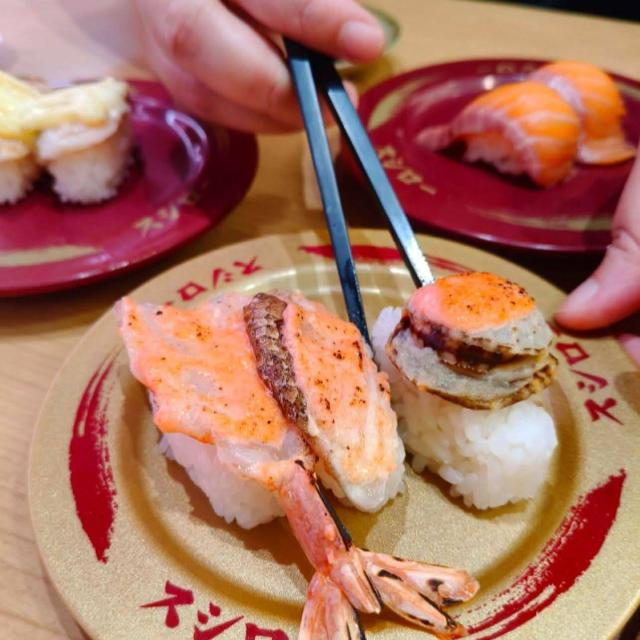jangold: (21, 354, 179, 640), (560, 382, 640, 640), (451, 526, 556, 640), (161, 244, 360, 296), (444, 246, 531, 274)
